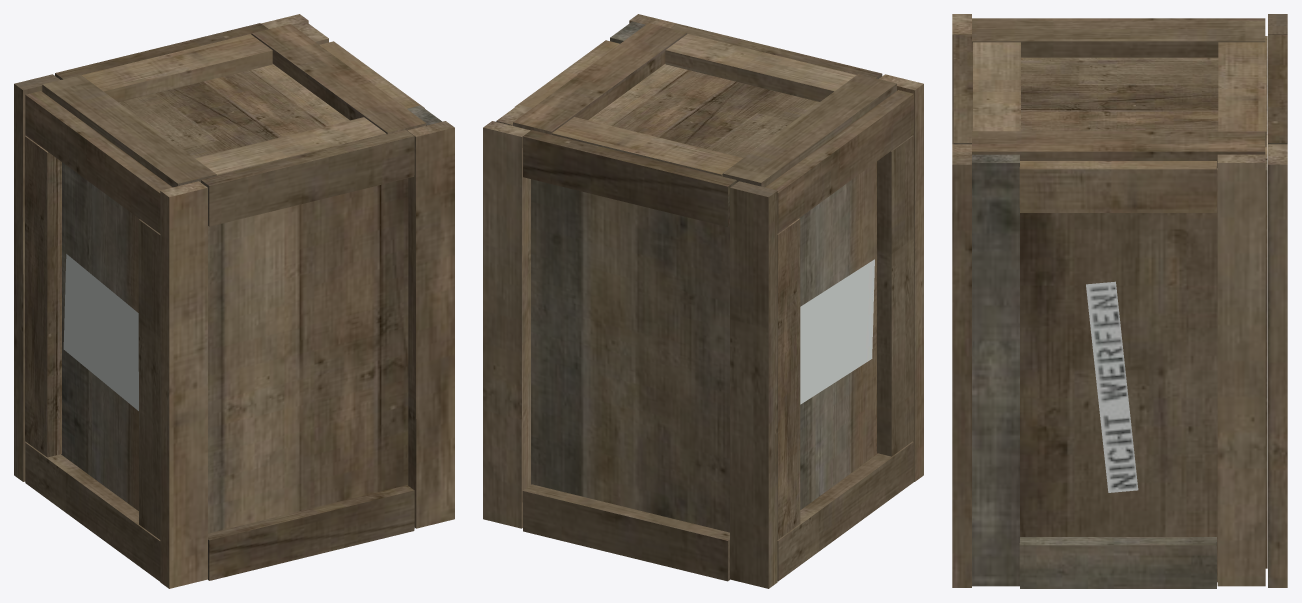
File: prop_crate_wehrmacht9a_wet.glb
3 renders of one model, left to right at view 1: azimuth 30°, elevation 25°; view 2: azimuth 150°, elevation 25°; view 3: azimuth 270°, elevation 25°, orthographic. The views are drawn at different scales.
Size of the model in its own units: 18.05 by 23.96 by 16.9.
2 materials, 2 textured.
